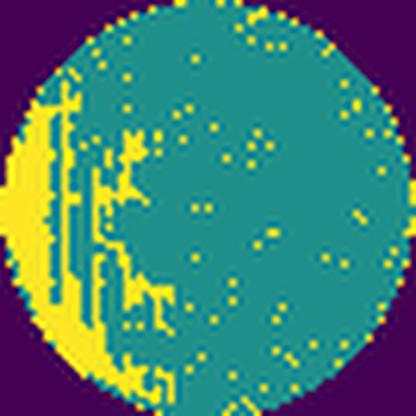Edge-Loc: (0, 79, 170, 403)
